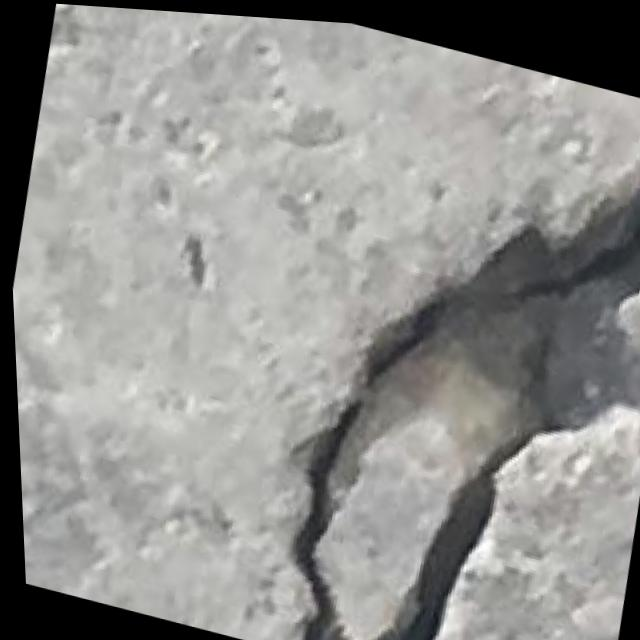Crack: (240, 18, 640, 640)
